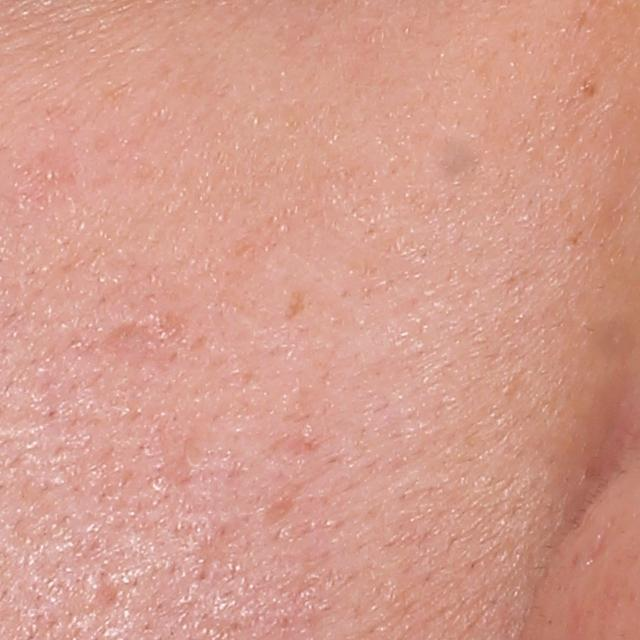atrophic_scar: (94, 319, 173, 366), (93, 564, 121, 609)
melasma: (576, 74, 600, 104)
other: (426, 122, 489, 200)
